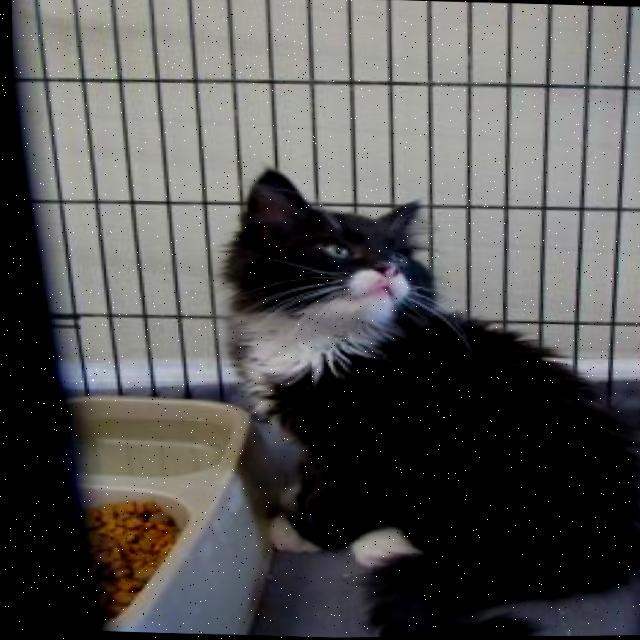Tuxedo: (195, 154, 640, 639)
